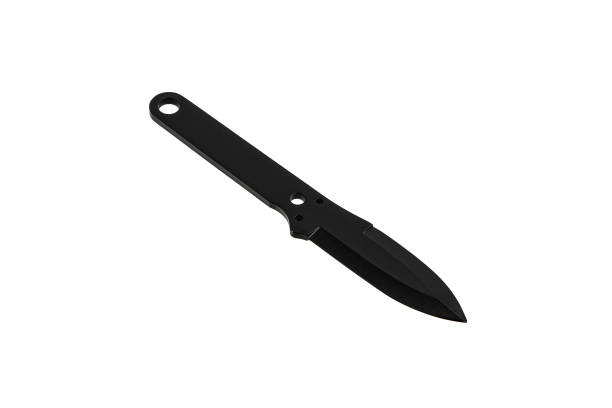knife: (148, 89, 469, 324)
